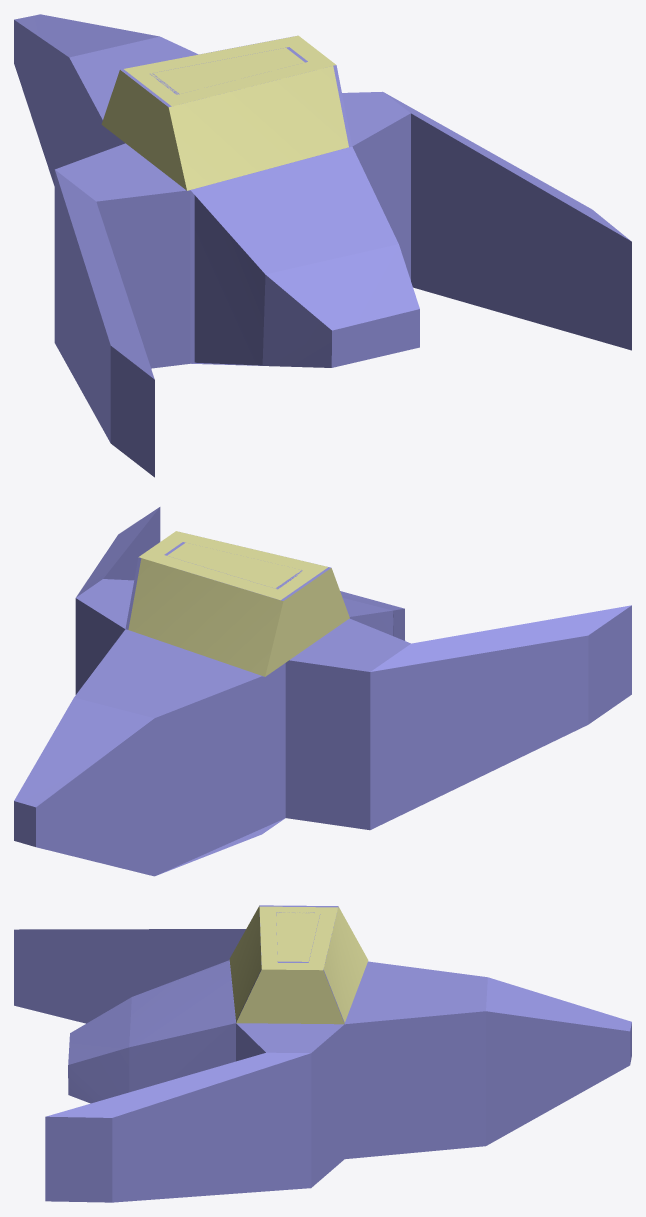
File: SpaceShip.fbx
3 views of the same model, one above another, from view 1: azimuth 30°, elevation 25°; view 2: azimuth 150°, elevation 25°; view 3: azimuth 270°, elevation 25° (orthographic). The views are drawn at different scales.
Visible parts, largest first — view 1: pCube1; view 2: pCube1; view 3: pCube1.
Boxes of the visible parts, box(x1,y1,x2,y2) form: pCube1: box(14, 14, 631, 477); pCube1: box(14, 507, 631, 876); pCube1: box(14, 905, 631, 1202).
Bounding box in the file's own units: 3.02 × 1.4 × 4.15.
